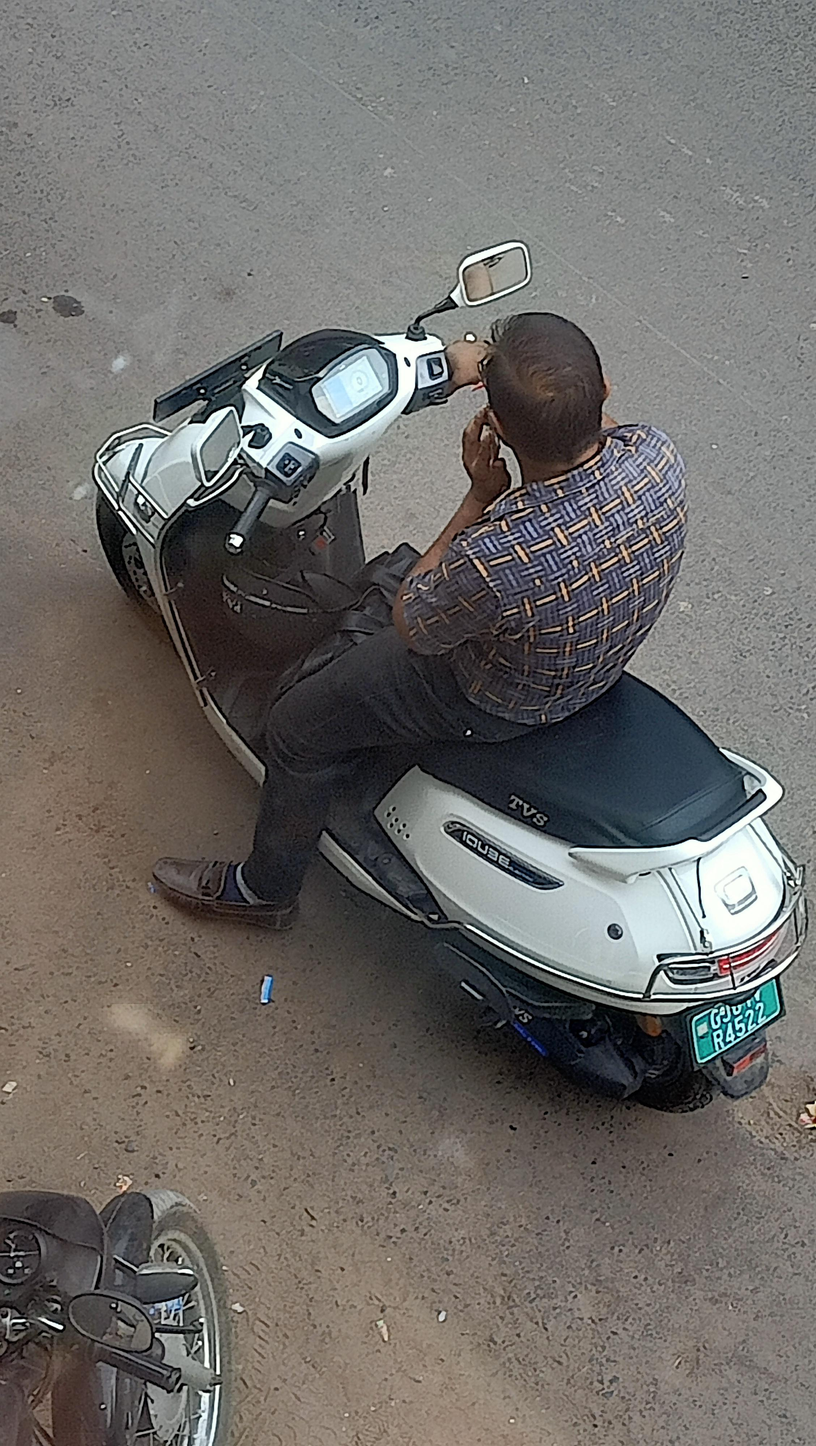green license plate: (689, 972, 789, 1053)
